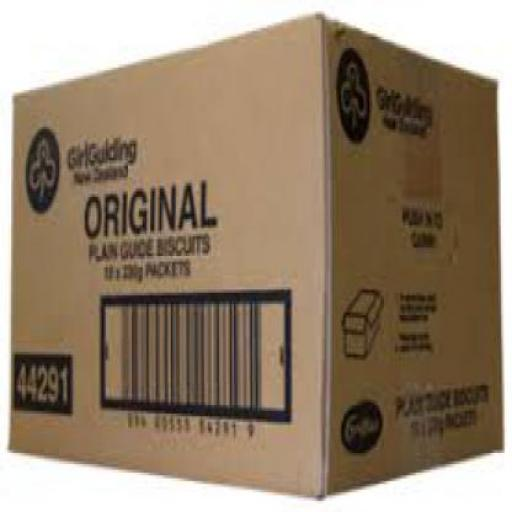cardboard: (5, 8, 501, 495)
